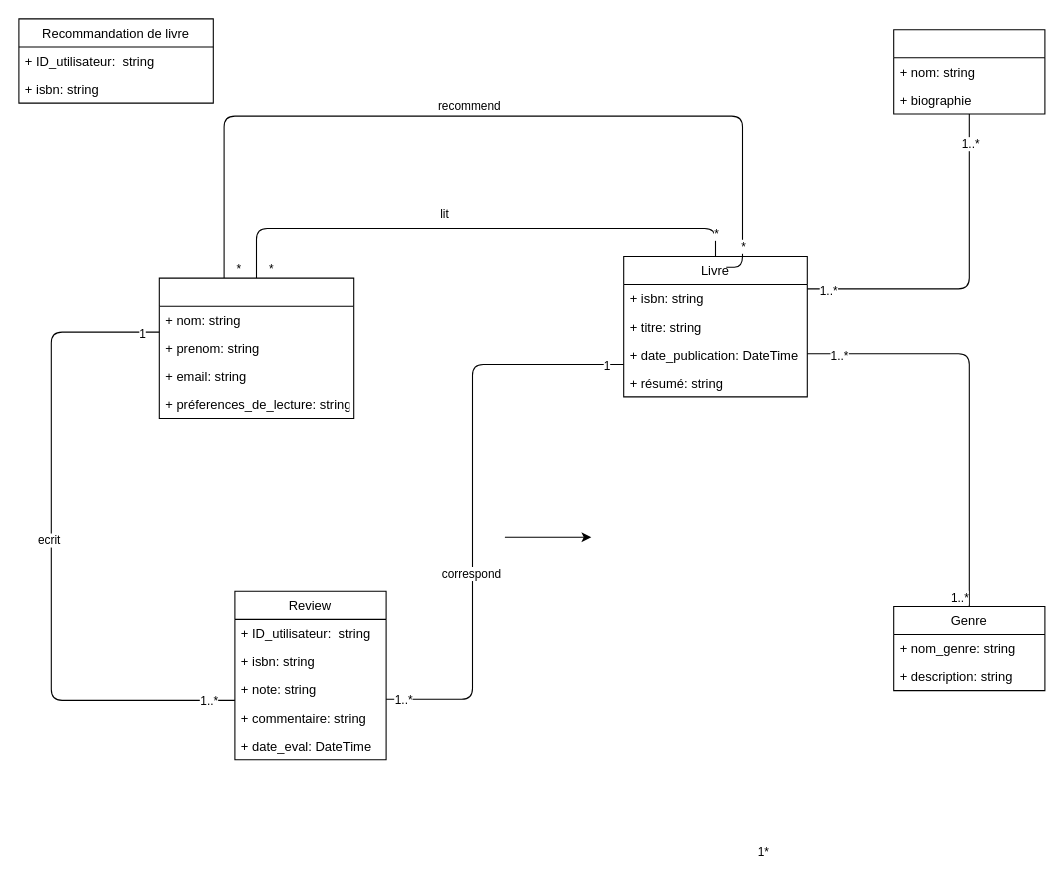
The diagram is 1064 pixels wide and 880 high, and some of its shapes have lost their labels. The box of each missing label's shape, as (x1, y1, x2, y2) in pixels:
Auteur: (893, 29, 1045, 114)
Utilisateur: (158, 277, 354, 418)
